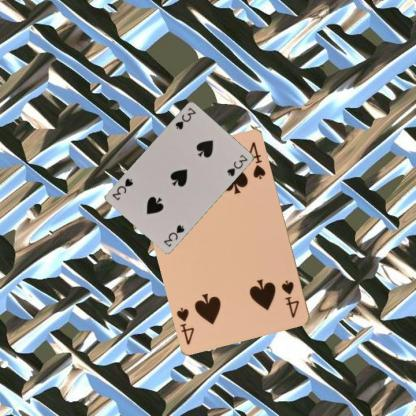3s: (161, 222, 186, 248), (173, 104, 197, 130)
4s: (279, 278, 301, 319)
